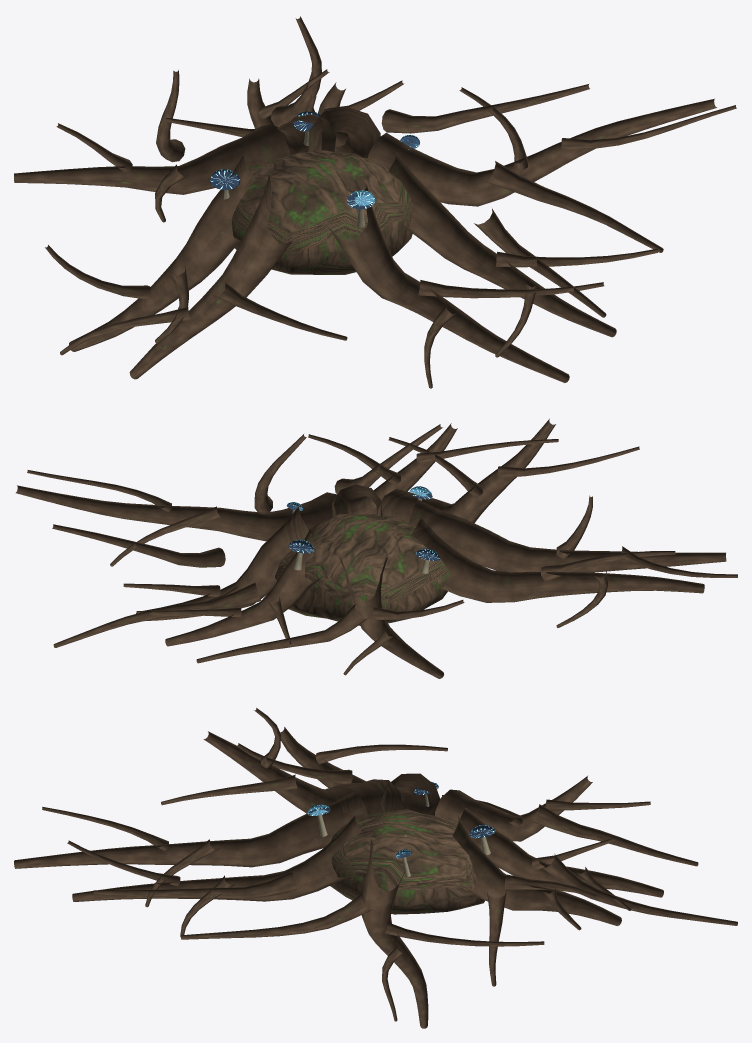
The model's file is spreading_root_cluster.glb.
The picture shows the model from 3 angles, top to bottom: view 1: azimuth 30°, elevation 25°; view 2: azimuth 150°, elevation 25°; view 3: azimuth 270°, elevation 25°; orthographic projection. The views are drawn at different scales.
Visible parts, largest first — view 1: spreading_root_cluster__root, spreading_root_cluster__bark, spreading_root_cluster__glowcap; view 2: spreading_root_cluster__root, spreading_root_cluster__bark, spreading_root_cluster__glowcap; view 3: spreading_root_cluster__root, spreading_root_cluster__bark, spreading_root_cluster__glowcap.
Boxes of the visible parts, bbox=[...] form: spreading_root_cluster__root: bbox=[14, 16, 736, 388]; spreading_root_cluster__bark: bbox=[231, 150, 412, 274]; spreading_root_cluster__glowcap: bbox=[210, 111, 419, 209]; spreading_root_cluster__root: bbox=[16, 418, 737, 678]; spreading_root_cluster__bark: bbox=[275, 514, 450, 625]; spreading_root_cluster__glowcap: bbox=[286, 486, 439, 560]; spreading_root_cluster__root: bbox=[14, 708, 737, 1028]; spreading_root_cluster__bark: bbox=[330, 809, 484, 914]; spreading_root_cluster__glowcap: bbox=[307, 782, 495, 858].
Size of the model in its own units: 6.09 by 0.7879 by 5.98.
4 materials, 4 textured.
